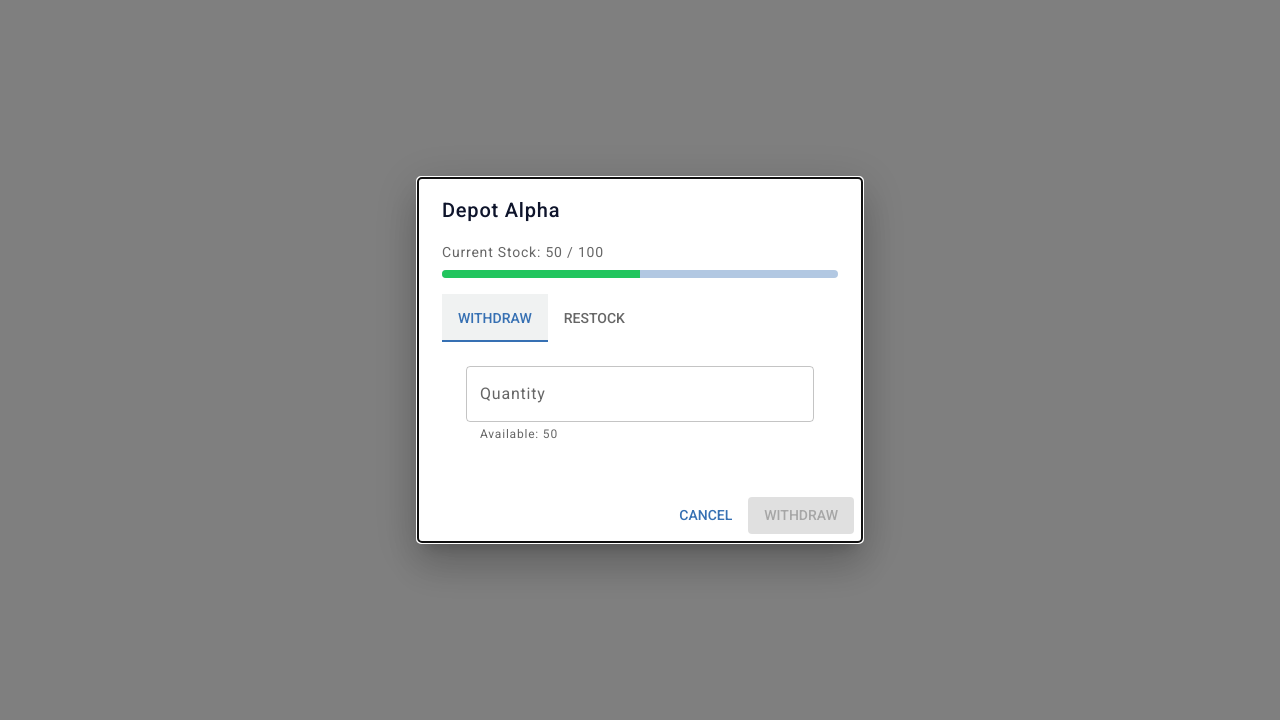
StockActionDialog › clears quantity when switching tabs
Expected: the heading "Depot Alpha" is shown, [442,198,560,222]
Type "10" into the number field at (640, 394), box [466,366,814,422]
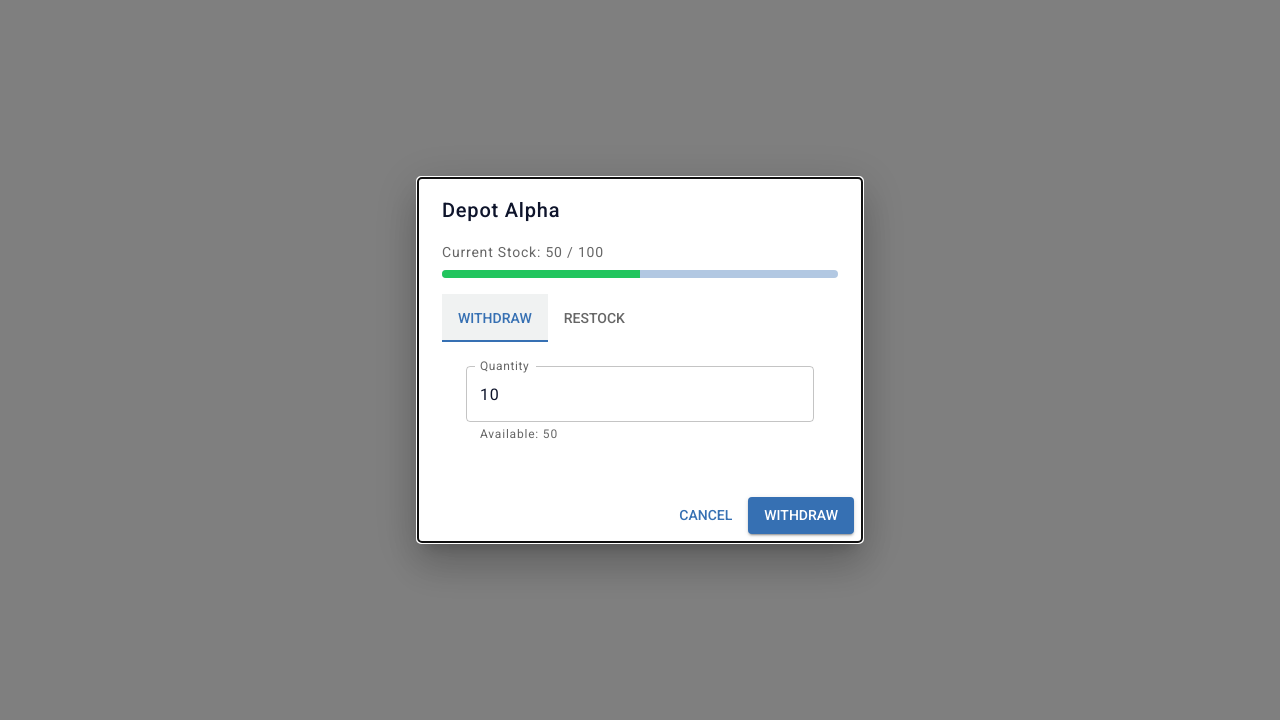
Click the tab "Restock" at (594, 318), box [548,294,641,342]
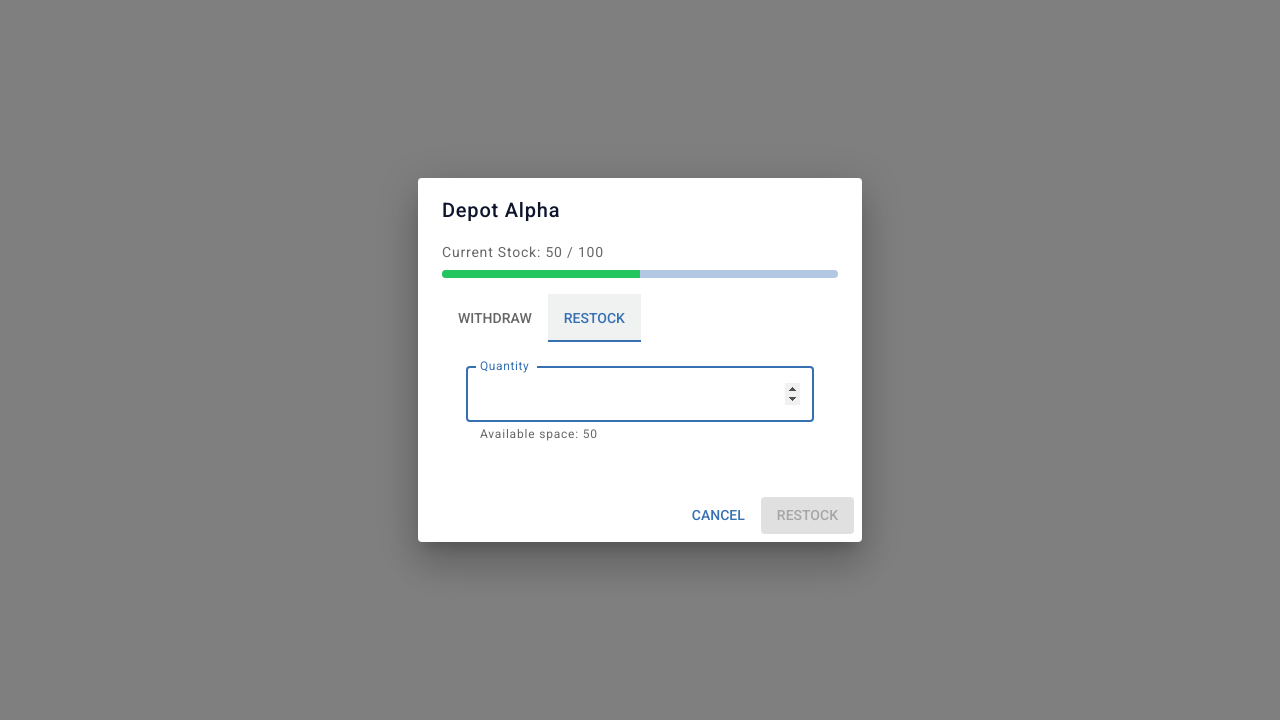
Result: the number field is not empty at [466,366,814,422]
